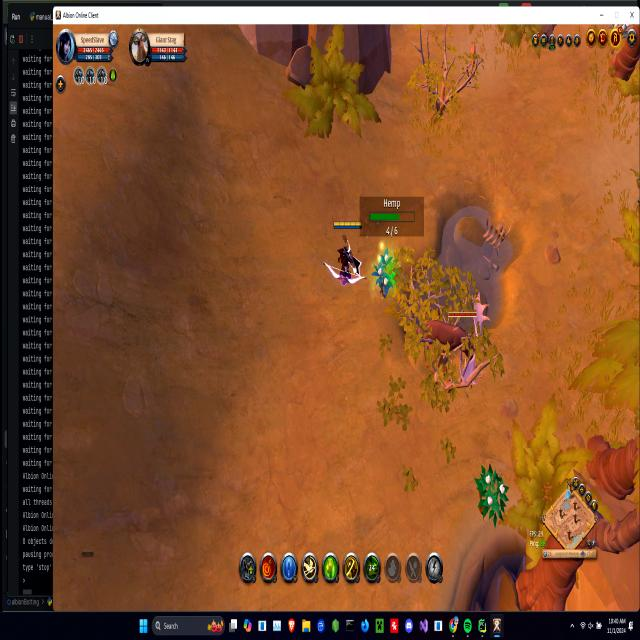hide: (475, 464, 508, 525), (372, 248, 398, 298)
ore: (420, 290, 490, 391)
red: (330, 217, 362, 288)
